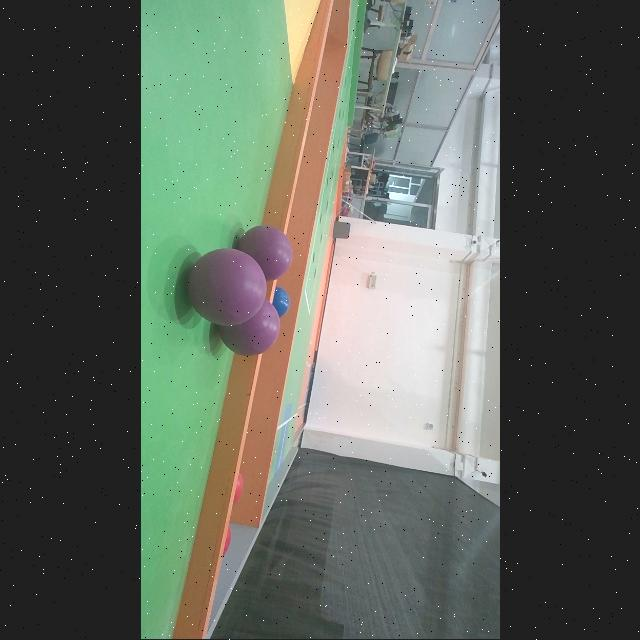P: (186, 249, 266, 327), (241, 225, 293, 283), (218, 302, 276, 350)
